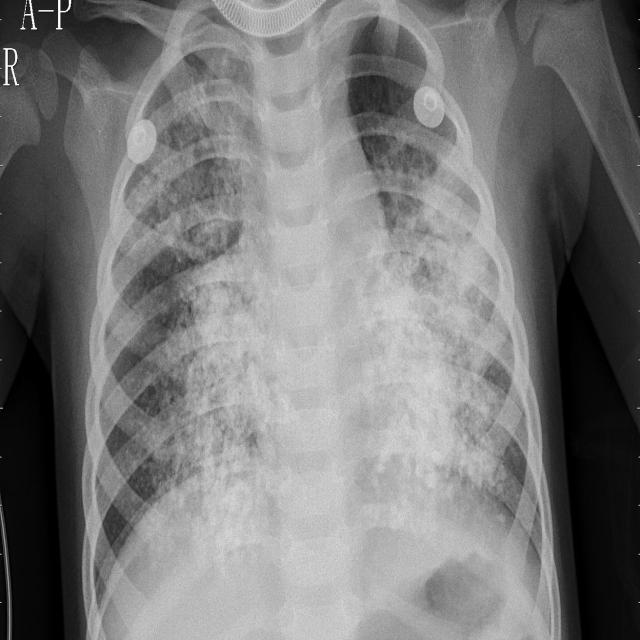high-pneumonia: (386, 111, 503, 488), (149, 262, 250, 494)
